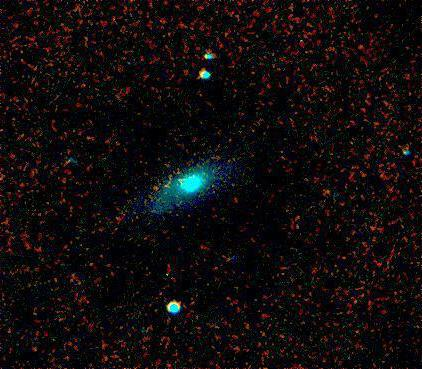star: (313, 175, 343, 205)
